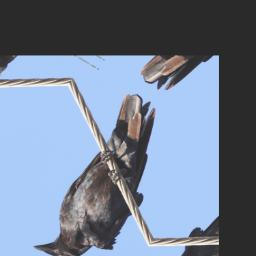Crow: (30, 88, 191, 256)
